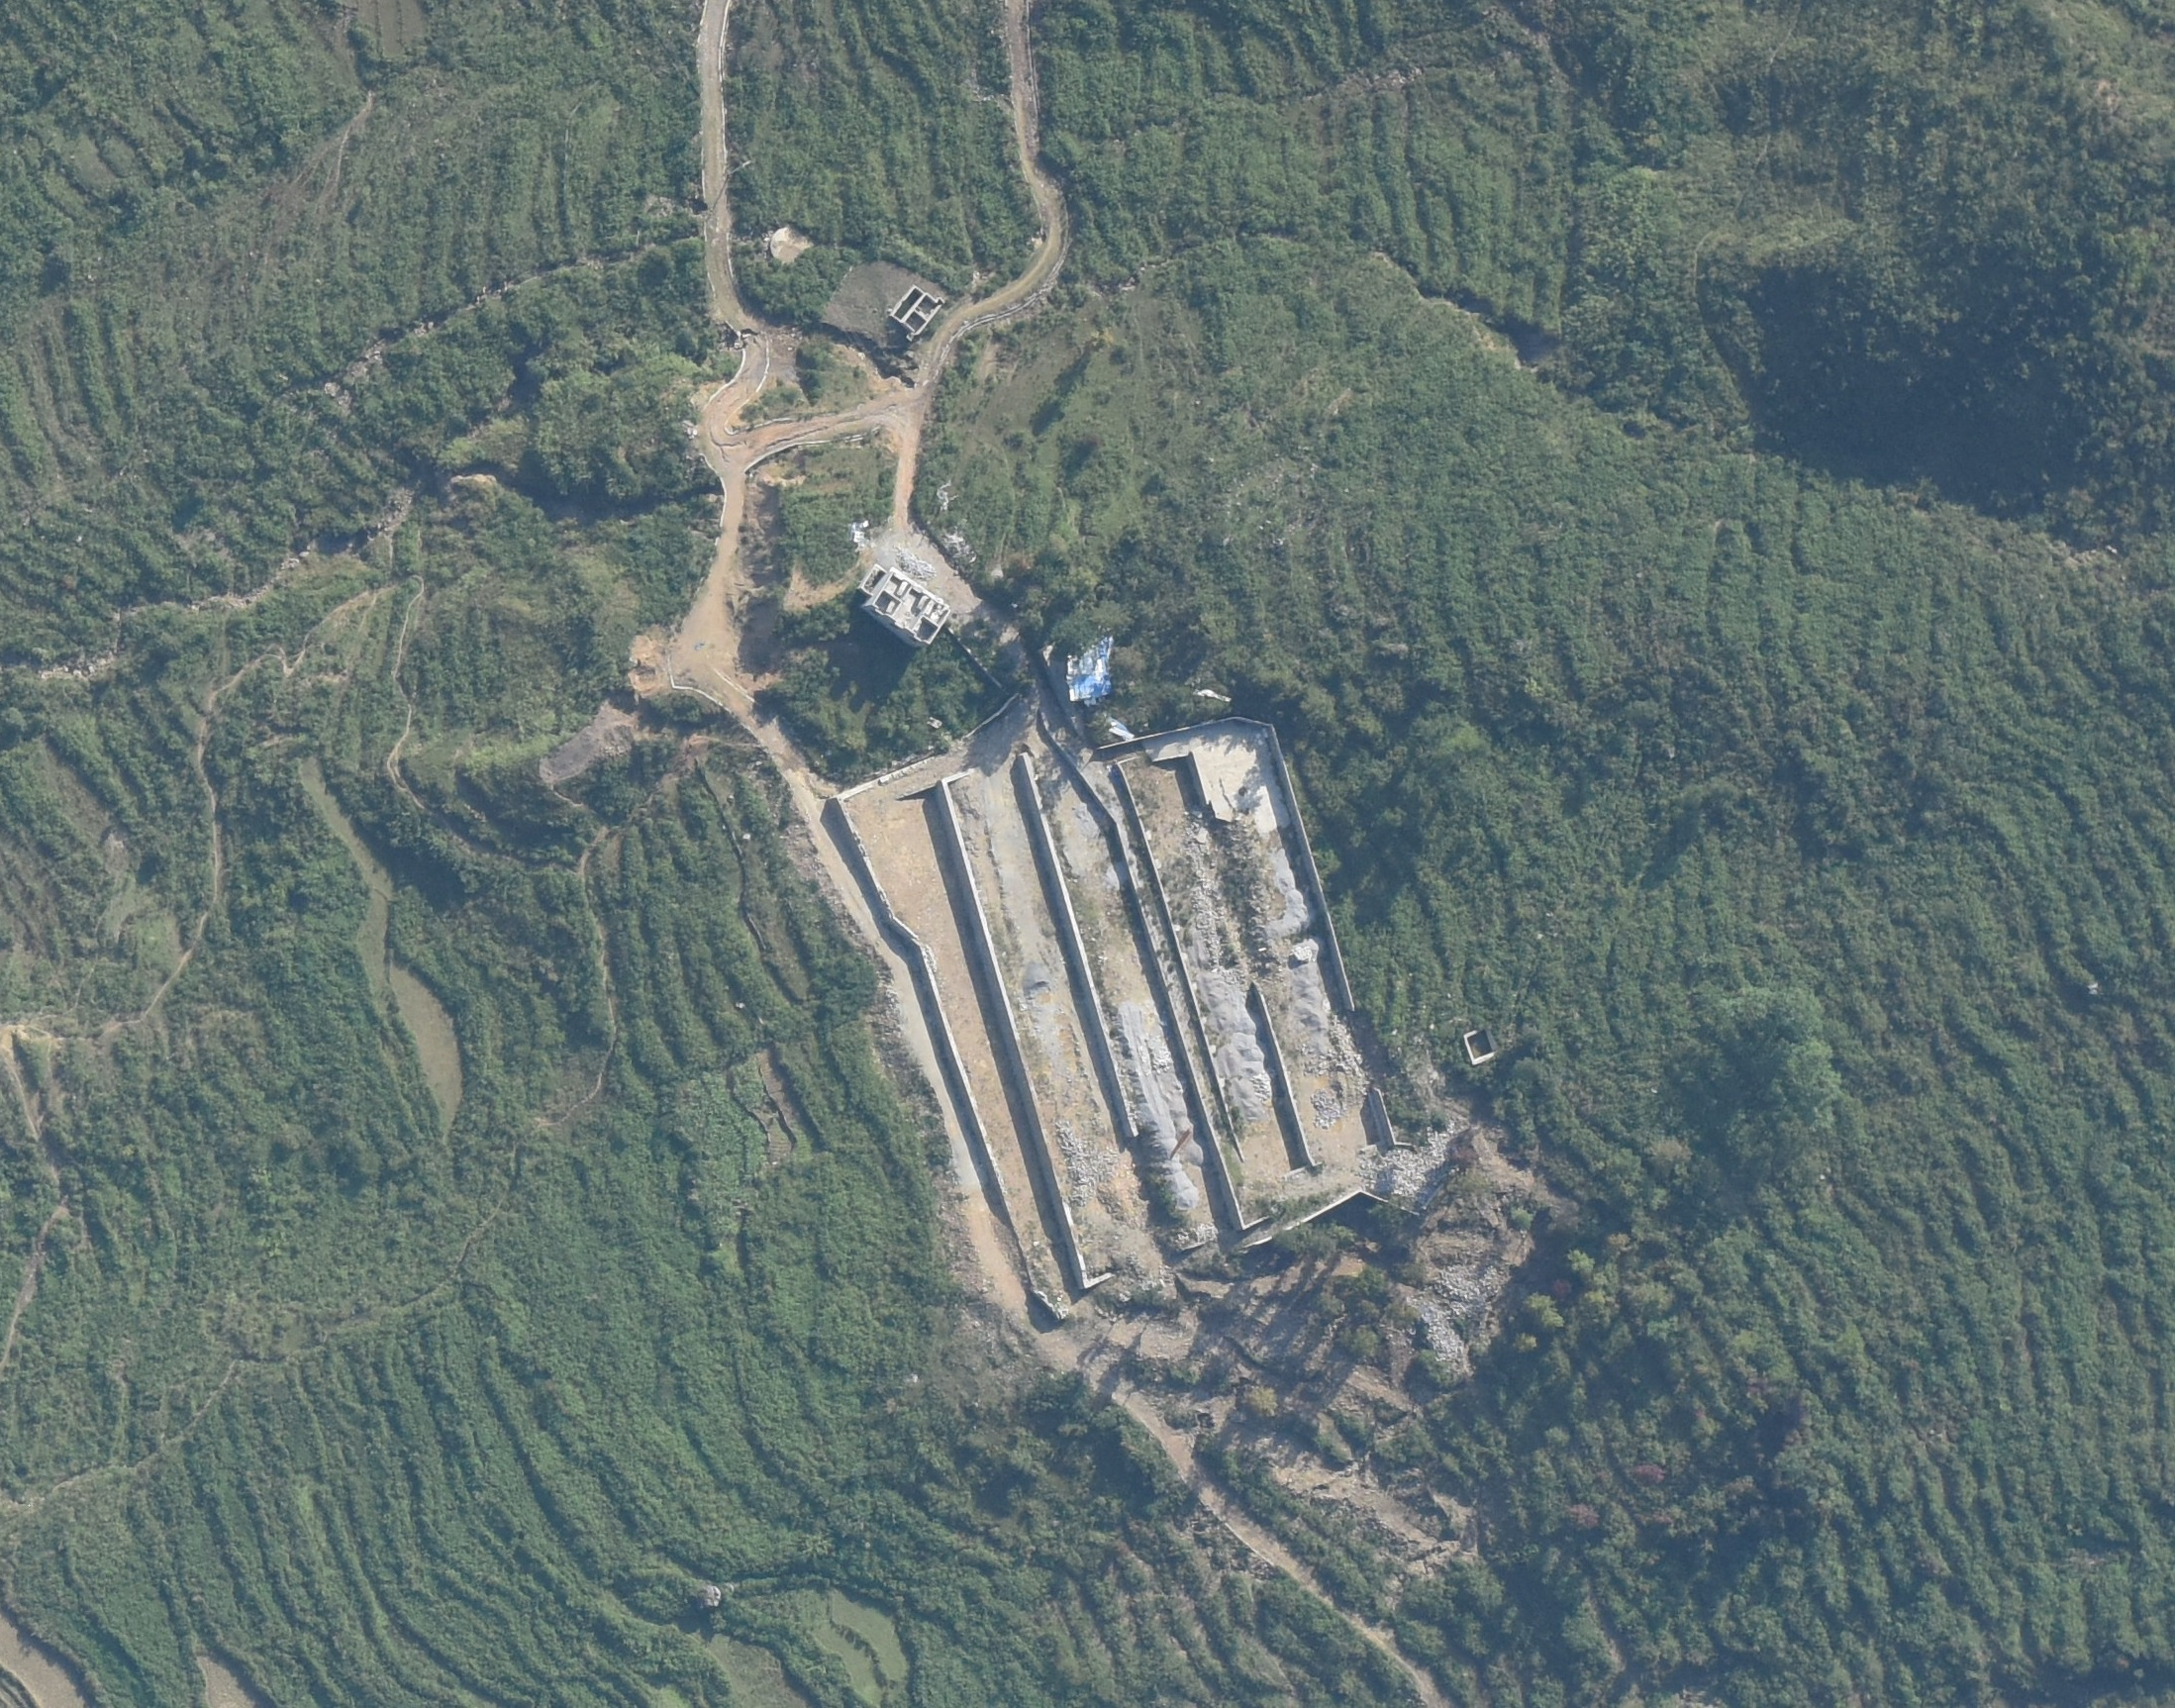building: (856, 562, 952, 650), (890, 283, 948, 341)
prefabricated-house: (1065, 631, 1114, 707)
well: (768, 223, 814, 265)
